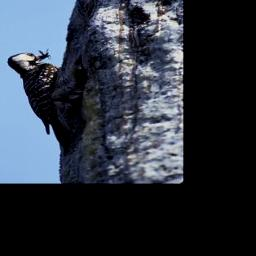Woodpecker: (7, 47, 87, 157)
